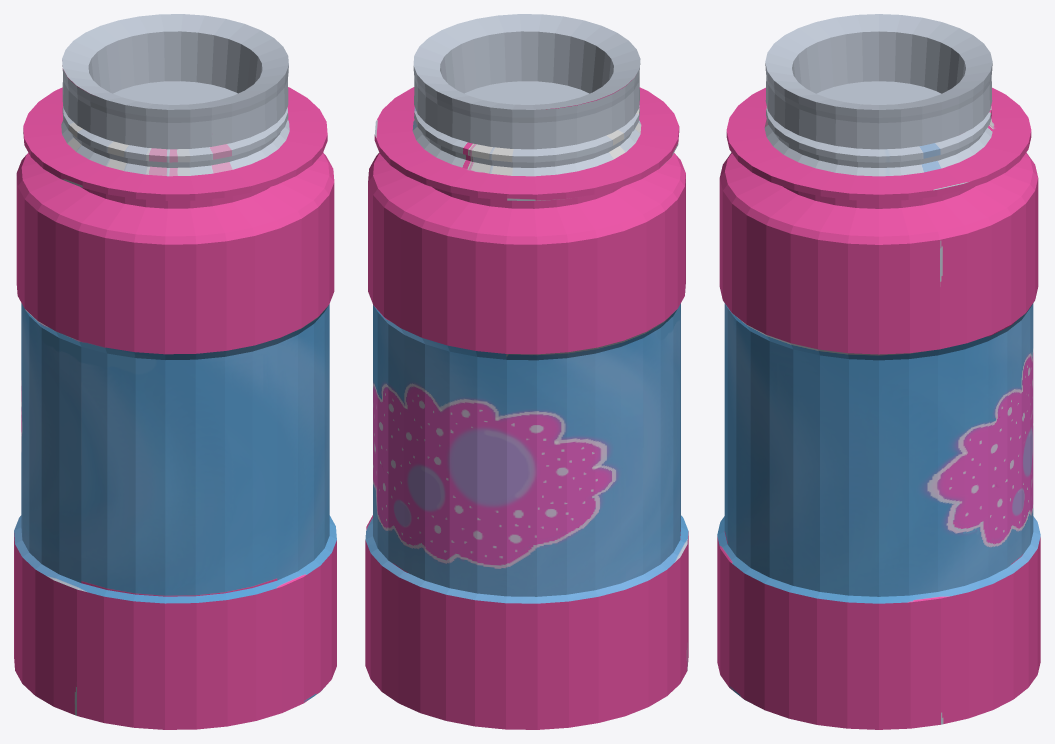
The model's file is bubble_bottle.obj.
The picture shows the model from 3 angles, left to right: view 1: azimuth 30°, elevation 25°; view 2: azimuth 150°, elevation 25°; view 3: azimuth 270°, elevation 25°; orthographic projection.
Visible parts, largest first — view 1: Bottle; view 2: Bottle; view 3: Bottle.
Part boxes in pixels (left/top/right/bottom): Bottle: left=14, top=14, right=336, bottom=729; Bottle: left=365, top=14, right=688, bottom=729; Bottle: left=717, top=14, right=1040, bottom=729.
Bounding box in the file's own units: 1.59 × 3.32 × 1.59.
1 material, 1 textured.
